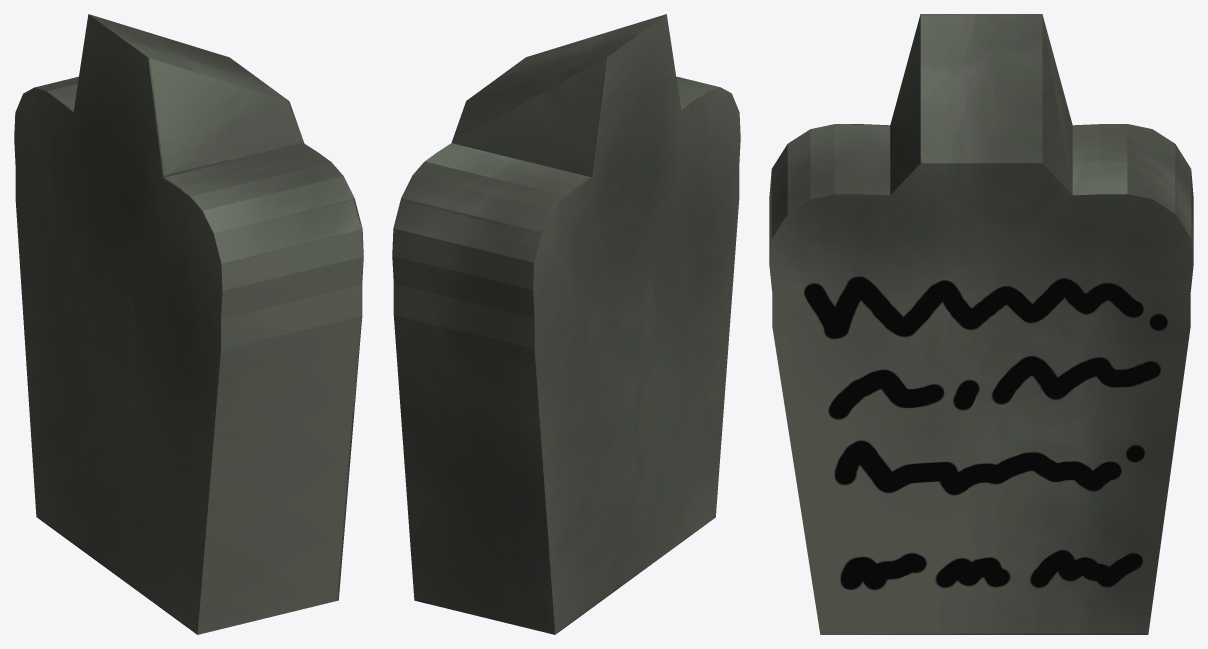
The model's file is batuFinal.glb.
The picture shows the model from 3 angles, left to right: view 1: azimuth 30°, elevation 25°; view 2: azimuth 150°, elevation 25°; view 3: azimuth 270°, elevation 25°; orthographic projection. The views are drawn at different scales.
Visible parts, largest first — view 1: Cube; view 2: Cube; view 3: Cube.
Boxes of the visible parts, x1=… form: Cube: x1=14, y1=14, x2=363, y2=634; Cube: x1=392, y1=14, x2=740, y2=634; Cube: x1=769, y1=14, x2=1193, y2=634.
Size of the model in its own units: 4.21 by 15.41 by 10.75.
Materials: 1 (1 with a texture image).
